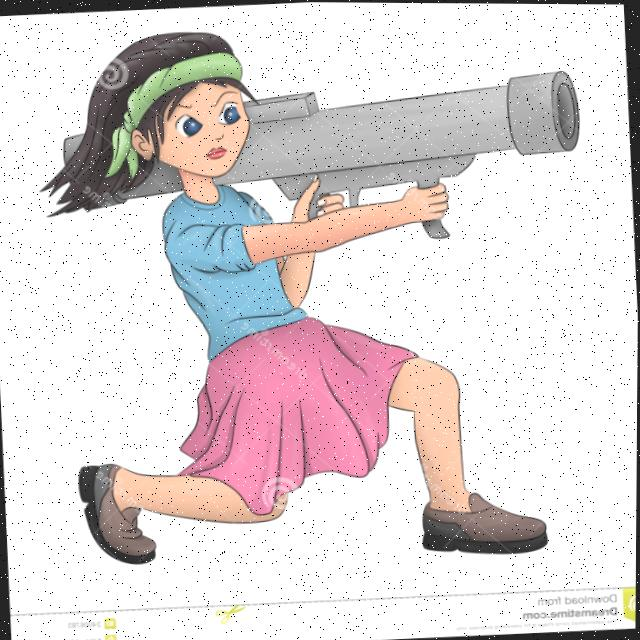rocket: (59, 65, 584, 257)
